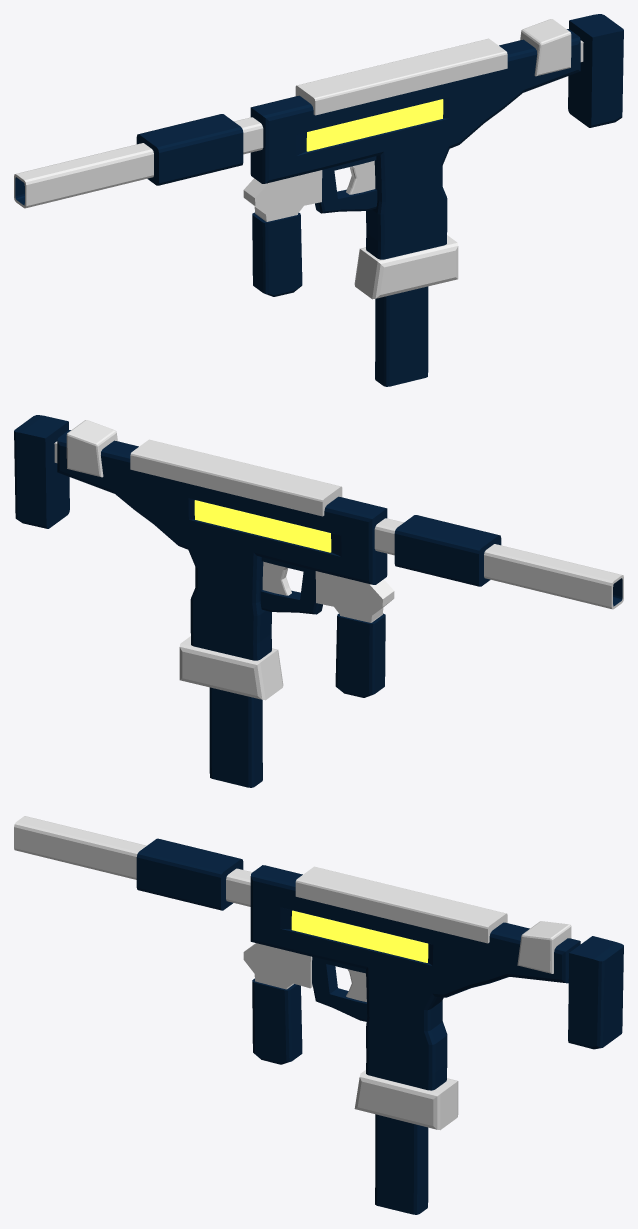
The model's file is Uzi_overtime.fbx.
3 views of the same model, one above another, from view 1: azimuth 30°, elevation 25°; view 2: azimuth 150°, elevation 25°; view 3: azimuth 330°, elevation 25° (orthographic).
Visible parts, largest first — view 1: Gun, Ammo; view 2: Gun, Ammo; view 3: Gun, Ammo.
Part boxes in pixels (<box>): Gun: <box>14,14,623,386</box>; Ammo: <box>306,99,443,151</box>; Gun: <box>14,415,623,787</box>; Ammo: <box>194,500,331,552</box>; Gun: <box>14,816,623,1214</box>; Ammo: <box>291,910,428,962</box>.
Size of the model in its own units: 370 by 187 by 25.23.
